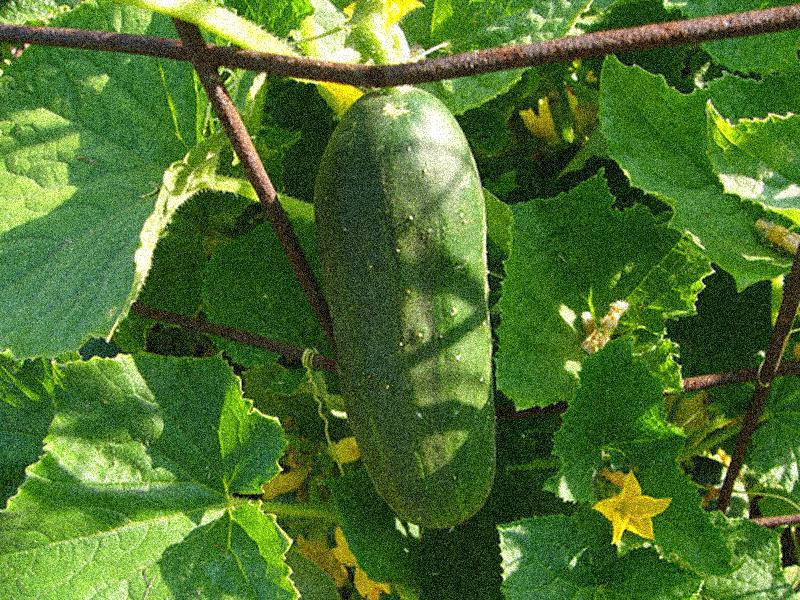Cucumber: (309, 86, 497, 530)
